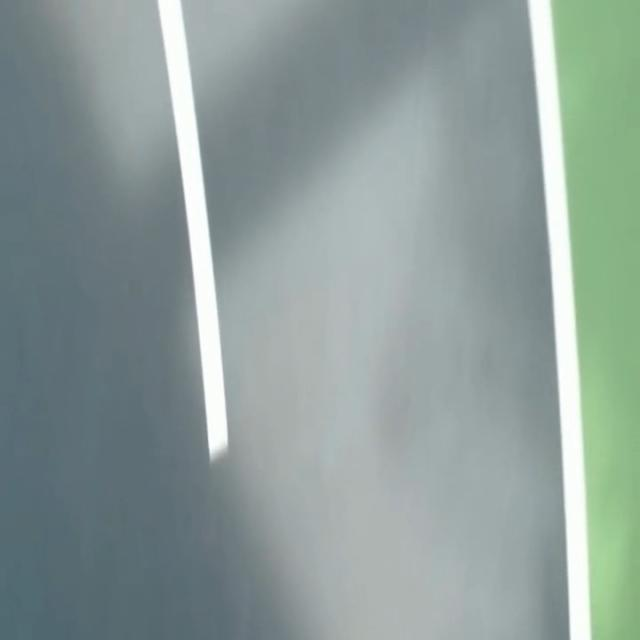center: (157, 0, 227, 462)
right: (528, 0, 591, 639)
